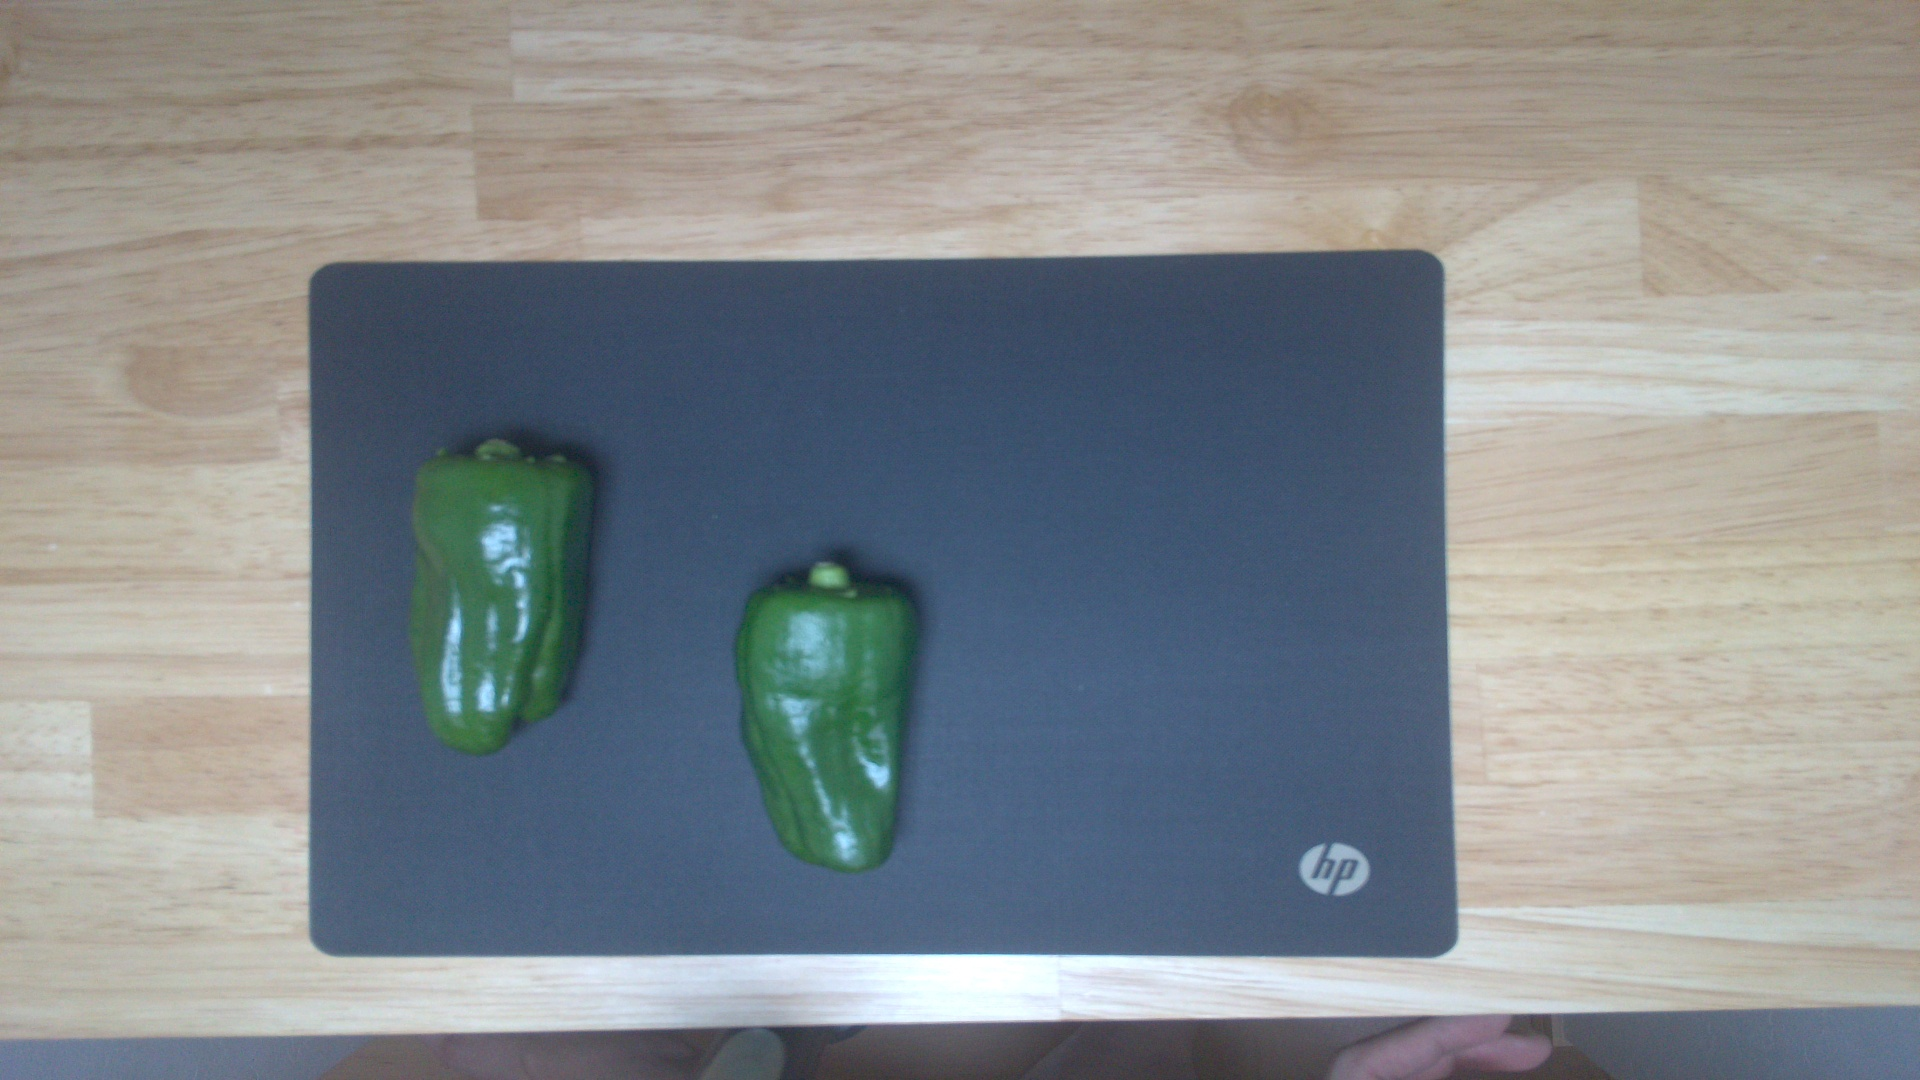Piman: (404, 436, 601, 756), (728, 559, 926, 874)
